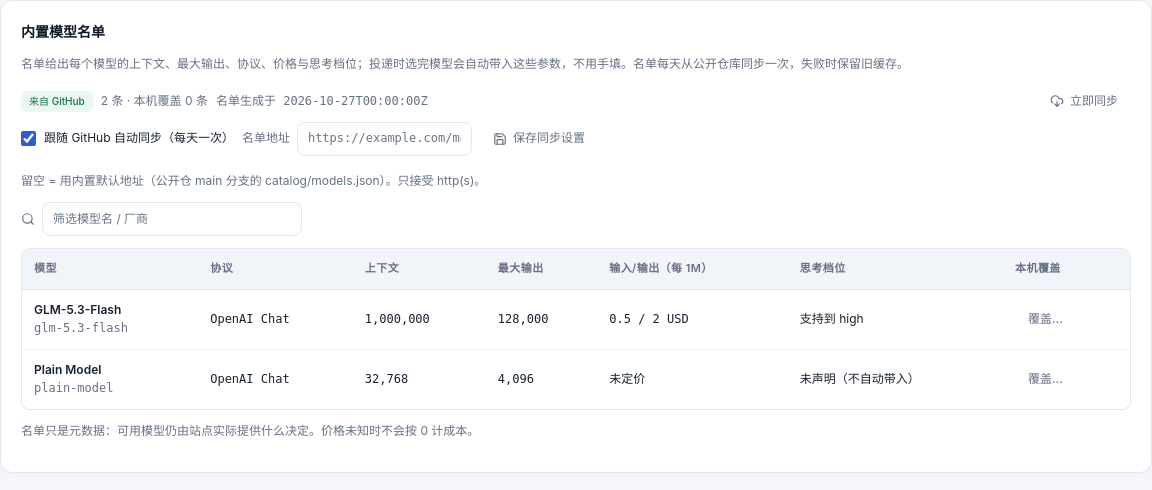
模型名单卡（M47-S2） › 支持按模型名 / 厂商筛选，并显示匹配条数
The image size is (1152, 490).
Check: the text "GLM-5.3-Flash" is shown, box [34, 300, 121, 319]
Step 1. Type "plain" into the search field labelled "筛选模型名 / 厂商" → [172, 220], box [42, 202, 302, 236]
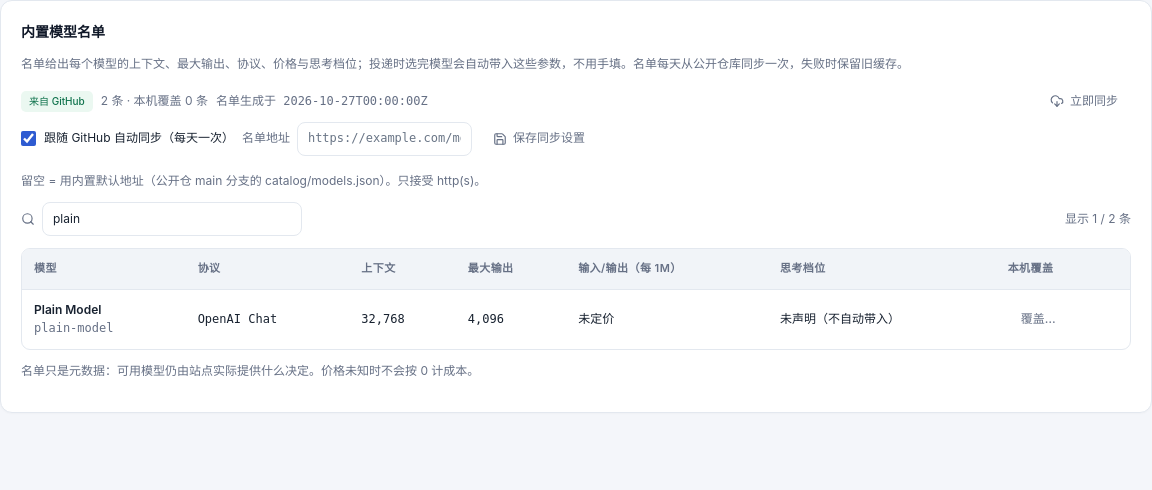
Check: the text "Plain Model" is shown, box [34, 300, 101, 319]
Check: the text "GLM-5.3-Flash" is gone
Check: the text "显示 1 / 2 条" is shown, box [1065, 210, 1131, 229]
